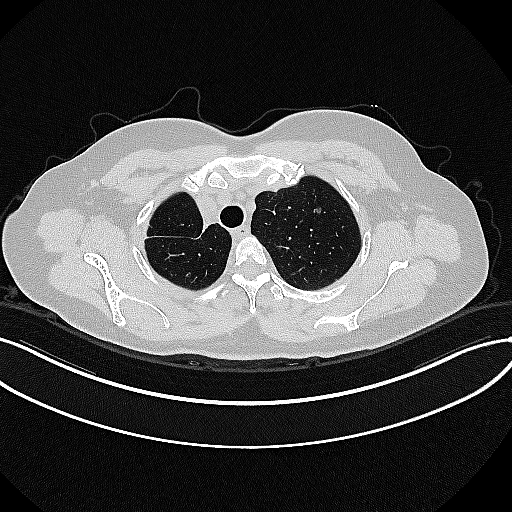nodule: (315, 207, 321, 213)
